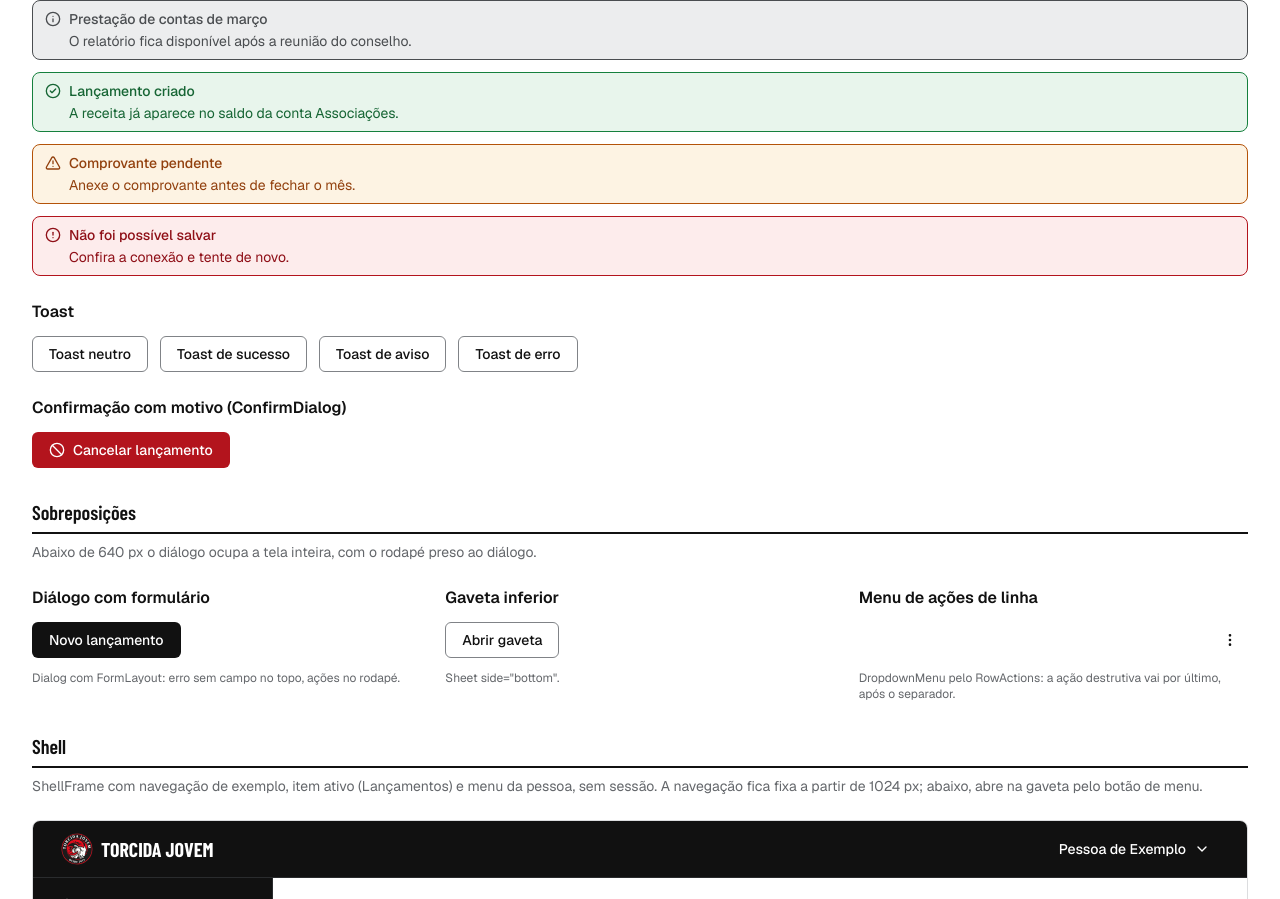
Scenario: feedback › a confirmação pede motivo obrigatório e nomeia o registro e a consequência
(page scrolled)
Click the button "Cancelar lançamento" at (131, 450), box [32,432,230,468]
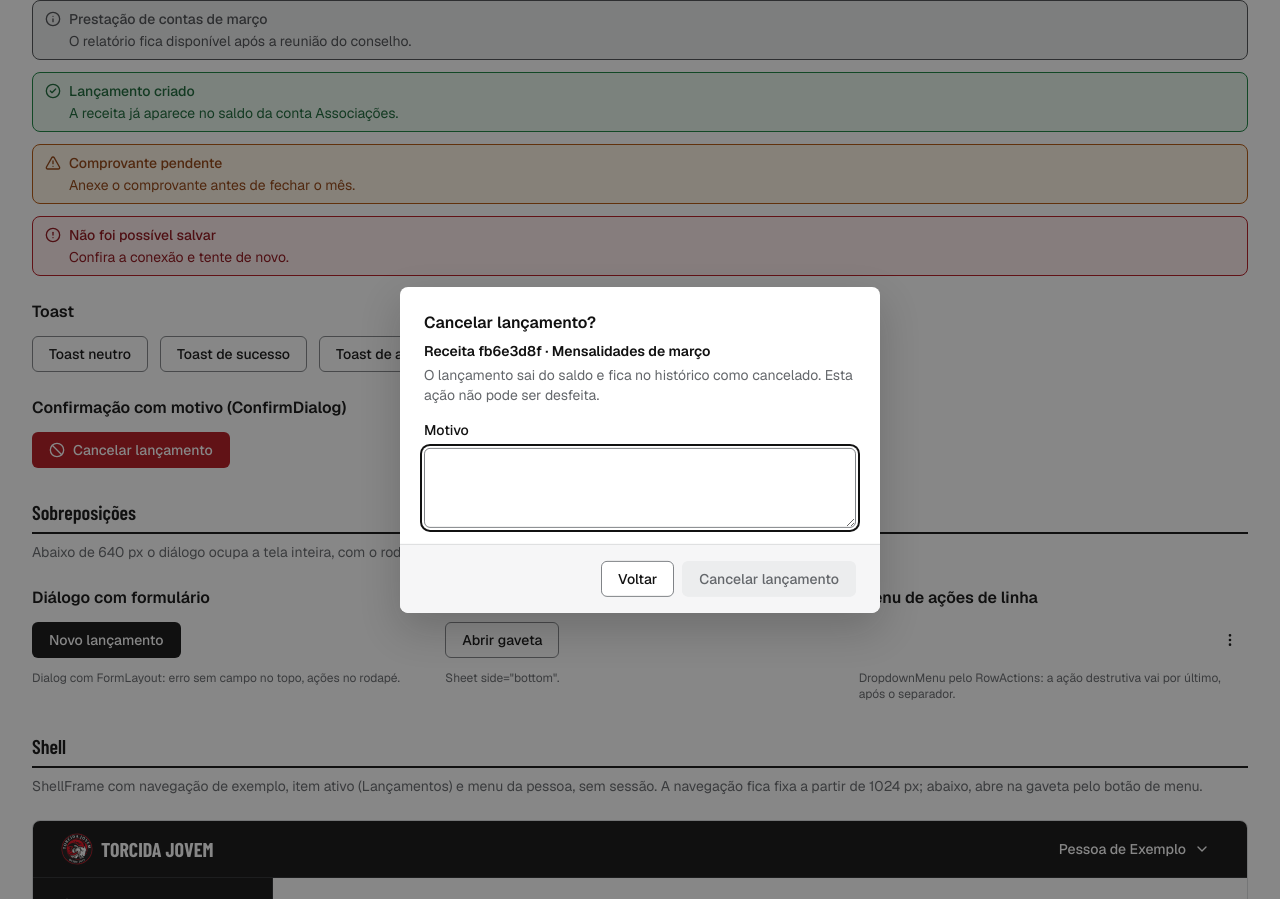
Check: the text "Receita fb6e3d8f · Mensalidades de março" is shown, box [424,342,710,360]
Check: the text "sai do saldo" is shown, box [424,366,853,404]
Check: the button "Cancelar lançamento" is disabled, box [682,561,856,597]
Type "Duplicado" into the text box labelled "Motivo" at (640, 488), box [424,448,856,528]
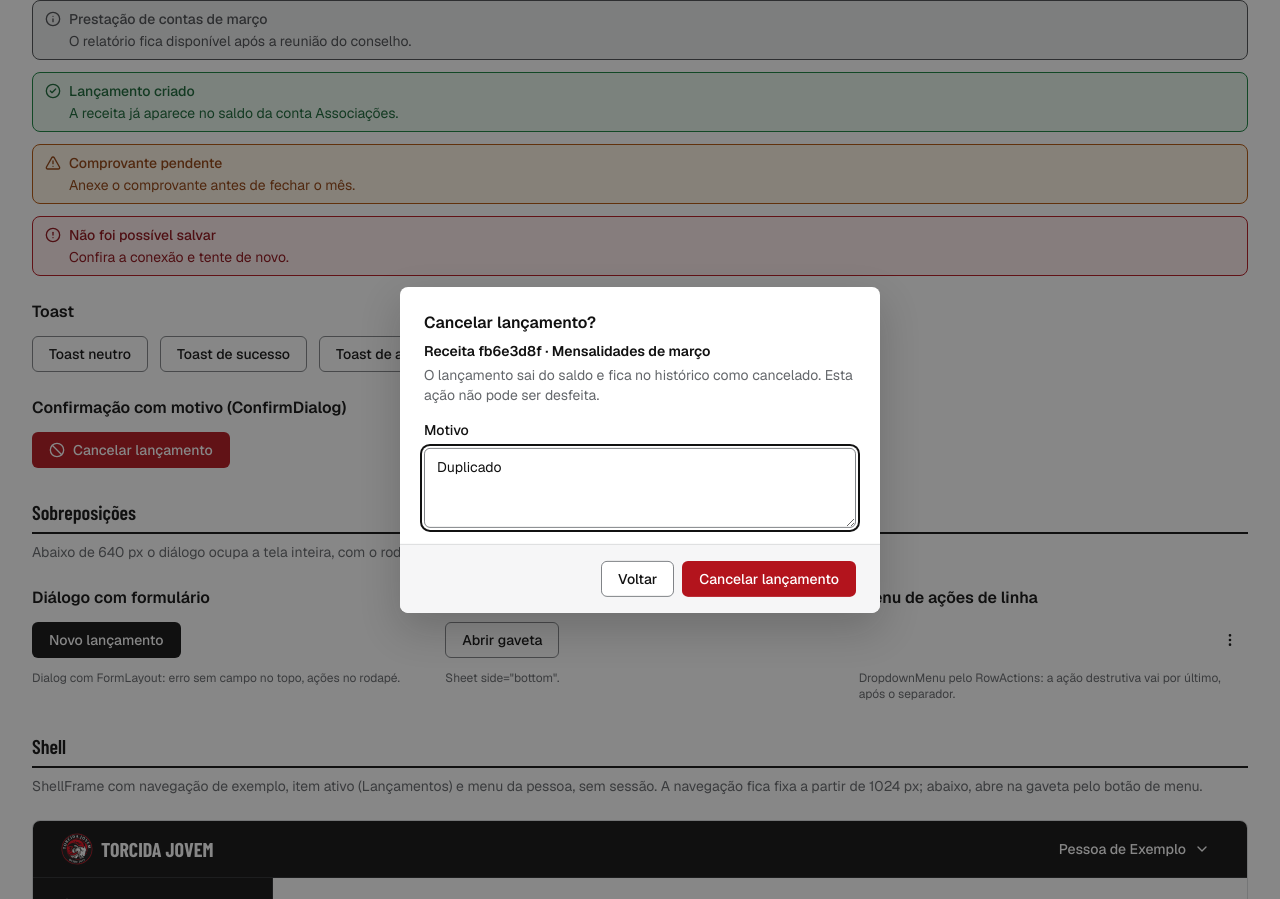
Check: the button "Cancelar lançamento" is enabled, box [682,561,856,597]
